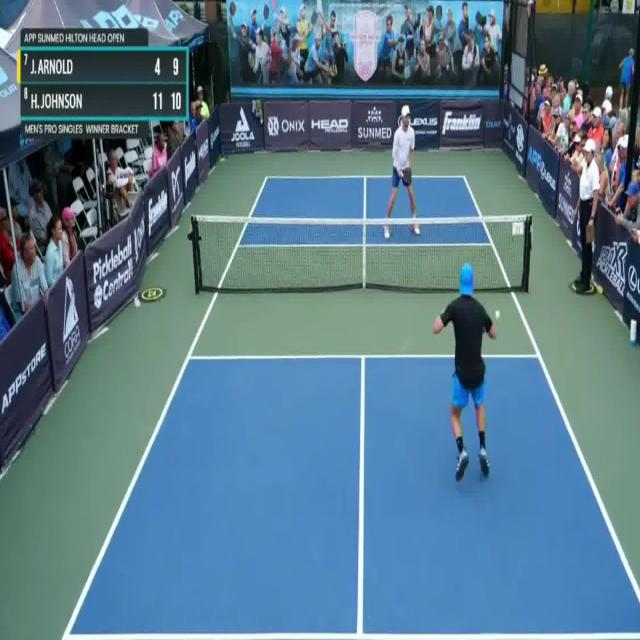ball: (494, 309, 500, 321)
